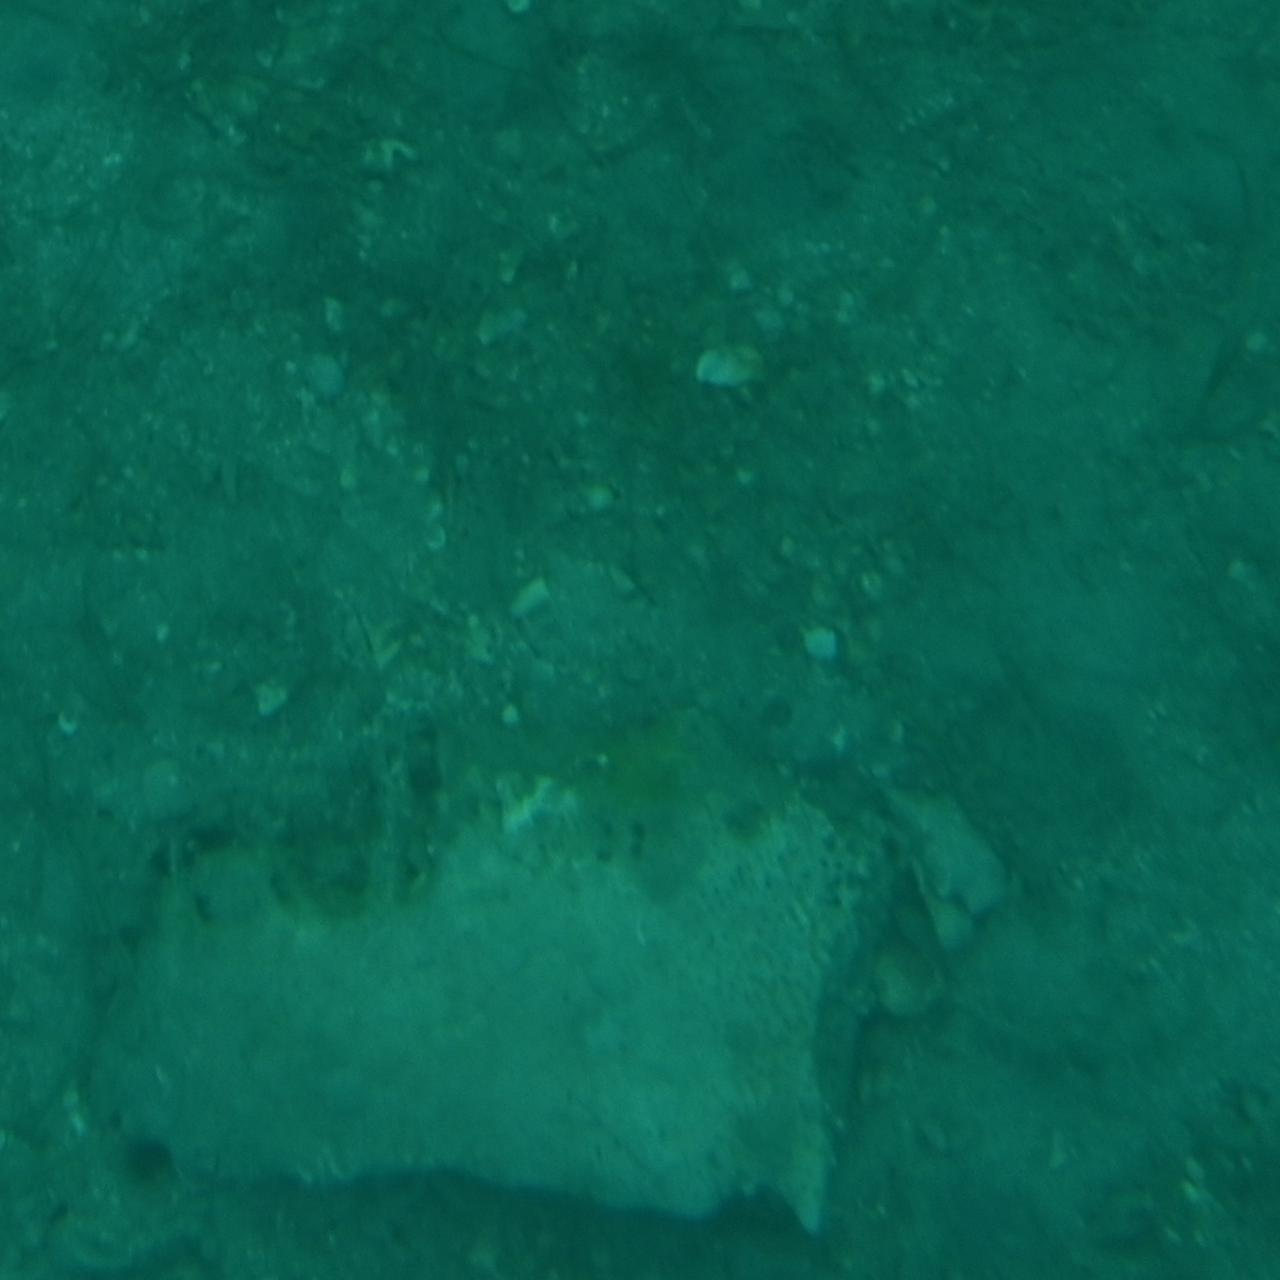Holothuria tubulosa: (331, 584, 949, 785)
